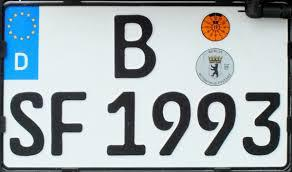1: (101, 88, 147, 158)
3: (240, 87, 283, 161)
9: (192, 88, 243, 161), (147, 88, 197, 161)
B: (111, 10, 159, 79)
F: (45, 89, 93, 160)
S: (5, 88, 48, 158)
